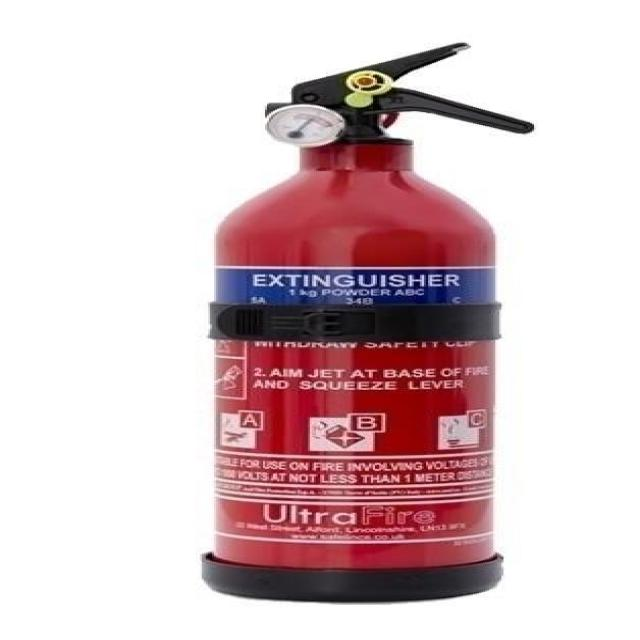fire_extinguisher: (179, 37, 538, 605)
